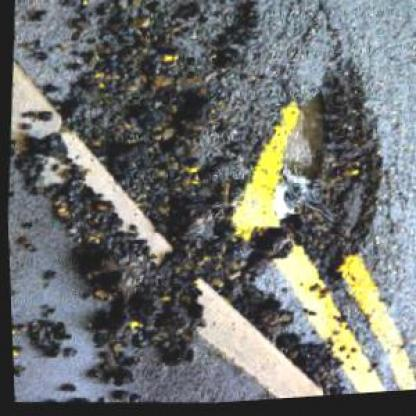pothole: (270, 56, 396, 296)
